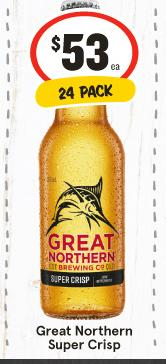description_block: (21, 323, 138, 356)
price_main: (24, 19, 141, 77)
product_image_block: (23, 103, 145, 322)
promo_text_block: (29, 79, 142, 107)
